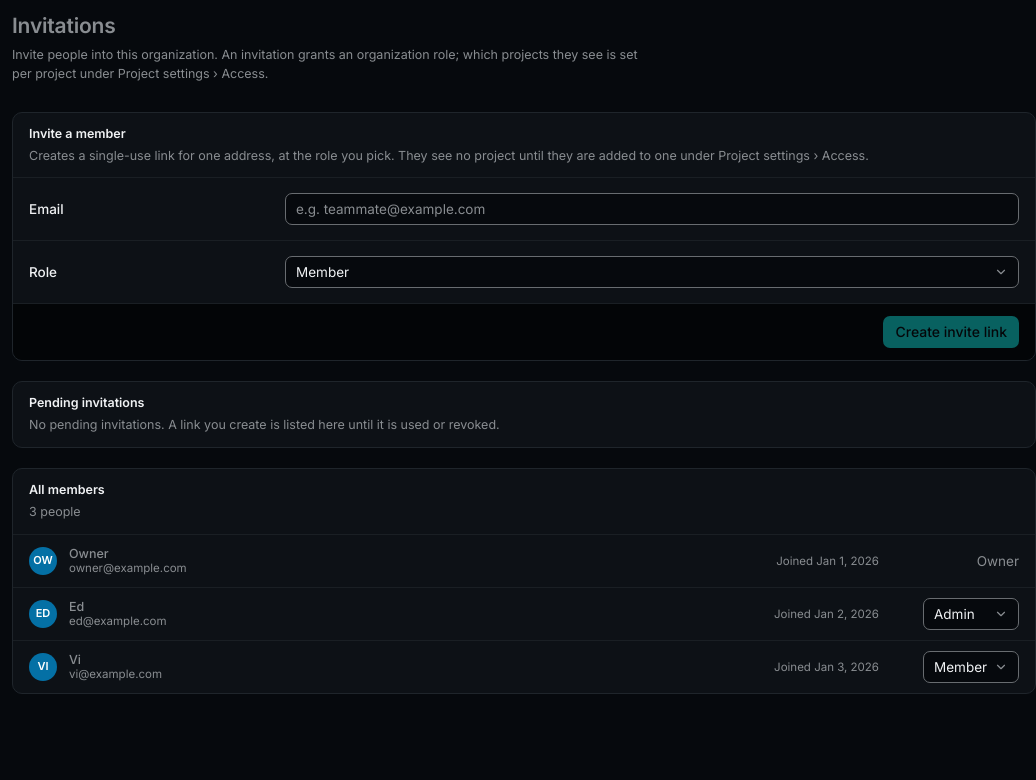
Test: UsersPage — role changes › shows a failed change on the row of the person it was for
Select "Admin" in the dropdown named "Role for Vi" at [971, 667], box x1=923 y1=651 x2=1019 y2=683
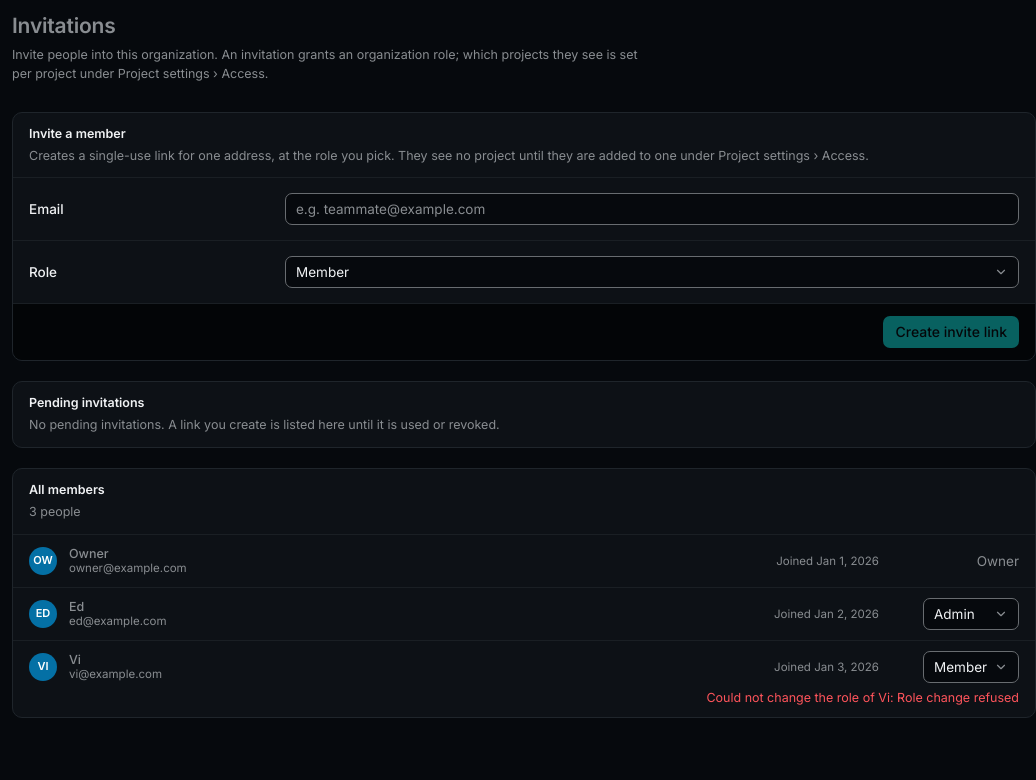
Now the message shows "Could not change the role of Vi", box x1=706 y1=690 x2=1019 y2=705
